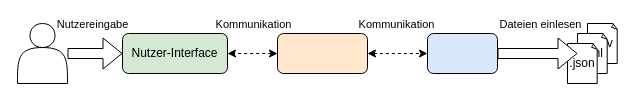
Image size: 635x101. Some labels were removed from this diagram. The shapes that lost their labels are listed below. From the top down, each one's centre as x and y in pixels, then its label:
At [322,53]: "Business-Logik".
At [462,53]: "Parsing".
